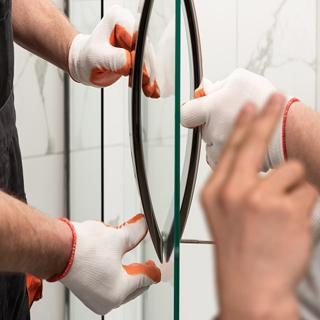DHAVE: (196, 85, 320, 298)
